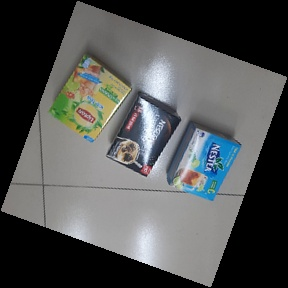CF Viet: (102, 91, 182, 178)
LipTon: (47, 53, 133, 143)
Nestea: (165, 121, 243, 204)
